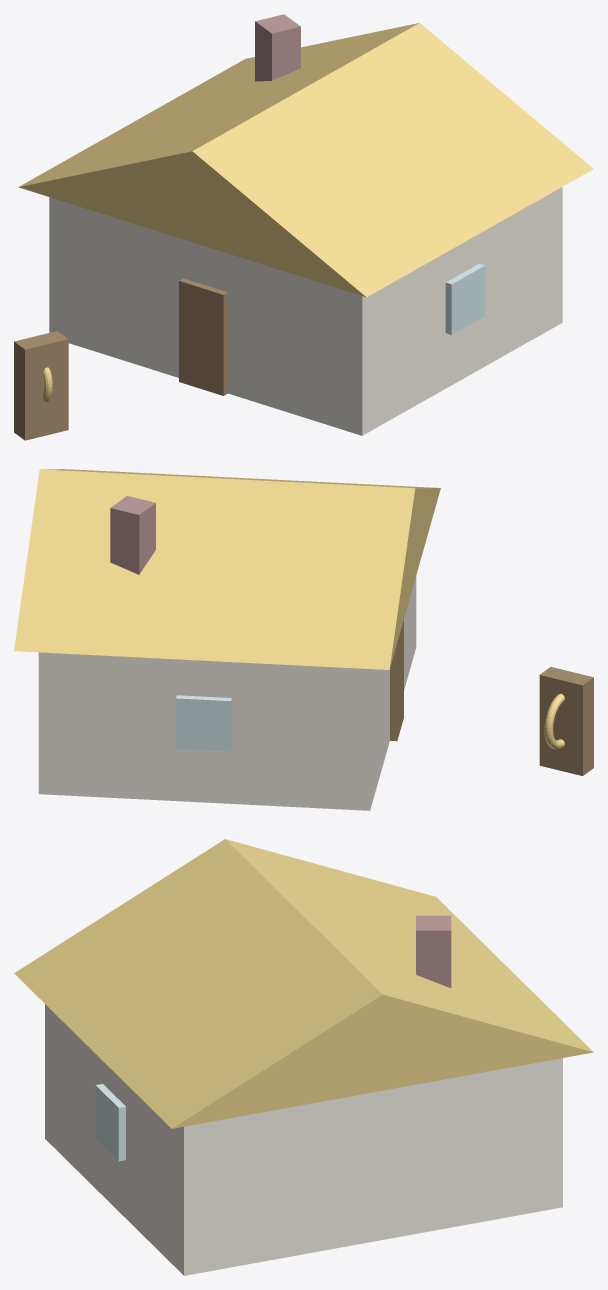
The model's file is house_apollo.glb.
The picture shows the model from 3 angles, top to bottom: view 1: azimuth 30°, elevation 25°; view 2: azimuth 150°, elevation 25°; view 3: azimuth 270°, elevation 25°; orthographic projection. The views are drawn at different scales.
Visible parts, largest first — view 1: apollo_atap.001, apollo_dinding.001, apollo_rak_kiri.001, apollo_pintu.001, apollo_cerobong.001, apollo_jendela_-1.001; view 2: apollo_atap.001, apollo_dinding.001, apollo_rak_kiri.001, apollo_cerobong.001, apollo_jendela_1.001, apollo_pintu.001, apollo_lyra.001; view 3: apollo_atap.001, apollo_dinding.001, apollo_cerobong.001, apollo_jendela_-1.001.
Part boxes in pixels (x1,y1,x2,y2): apollo_atap.001: [18, 23, 593, 297]; apollo_dinding.001: [49, 187, 562, 435]; apollo_rak_kiri.001: [14, 331, 68, 440]; apollo_pintu.001: [179, 278, 227, 395]; apollo_cerobong.001: [255, 14, 300, 81]; apollo_jendela_-1.001: [445, 263, 485, 334]; apollo_atap.001: [14, 469, 440, 669]; apollo_dinding.001: [38, 576, 416, 810]; apollo_rak_kiri.001: [539, 667, 593, 775]; apollo_cerobong.001: [110, 496, 155, 574]; apollo_jendela_1.001: [176, 695, 231, 751]; apollo_pintu.001: [390, 620, 403, 741]; apollo_lyra.001: [544, 693, 564, 749]; apollo_atap.001: [14, 839, 593, 1128]; apollo_dinding.001: [45, 1004, 562, 1275]; apollo_cerobong.001: [416, 915, 451, 987]; apollo_jendela_-1.001: [95, 1084, 125, 1161].
Size of the model in its own units: 11.37 by 5 by 9.85.
